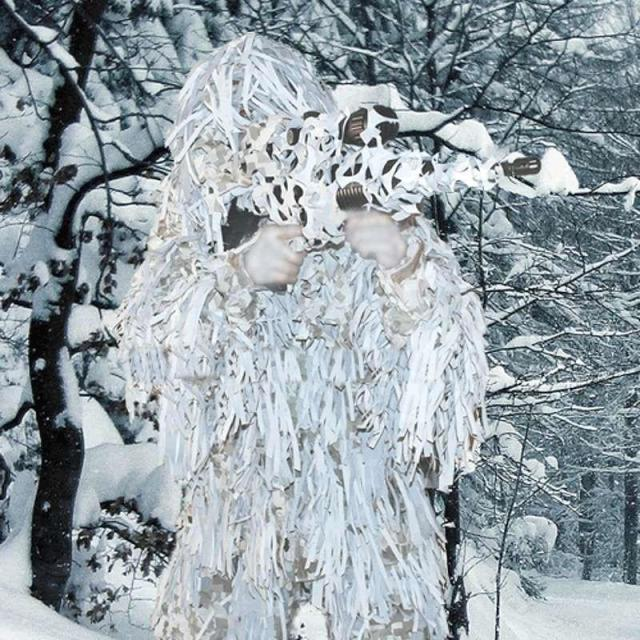Camouflage: (116, 36, 540, 617)
